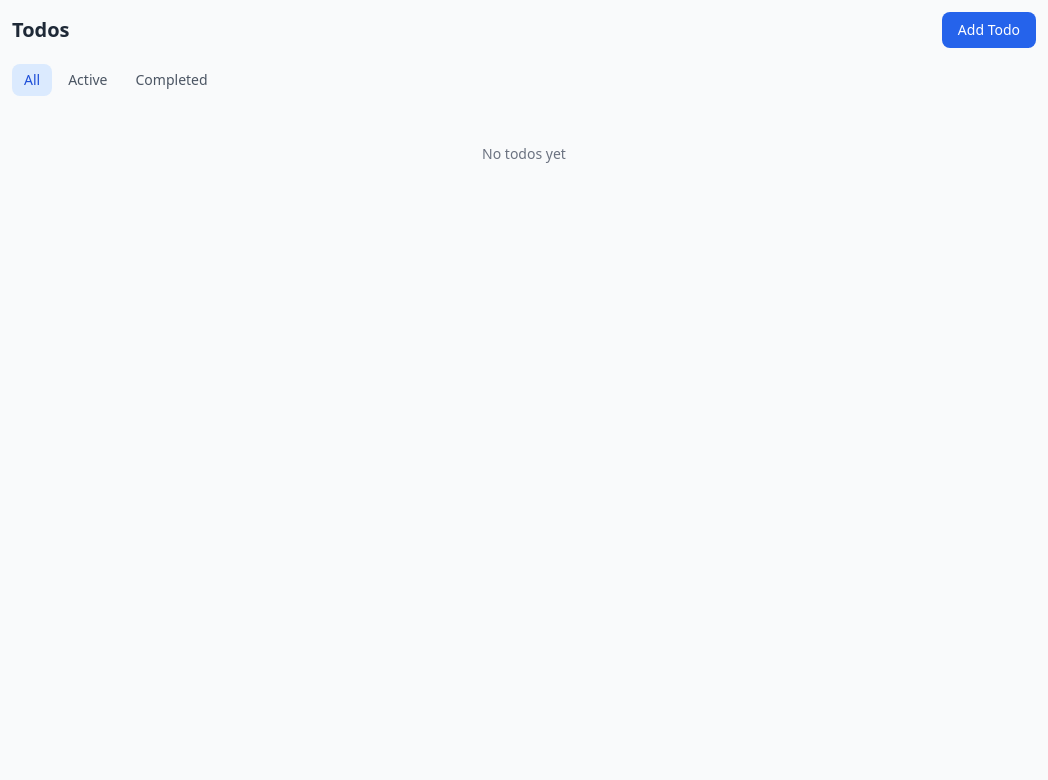
Scenario: TodoList › shows form when Add Todo is clicked
The image size is (1048, 780).
Click the button "Add Todo": (989, 30) x1=942 y1=12 x2=1036 y2=48
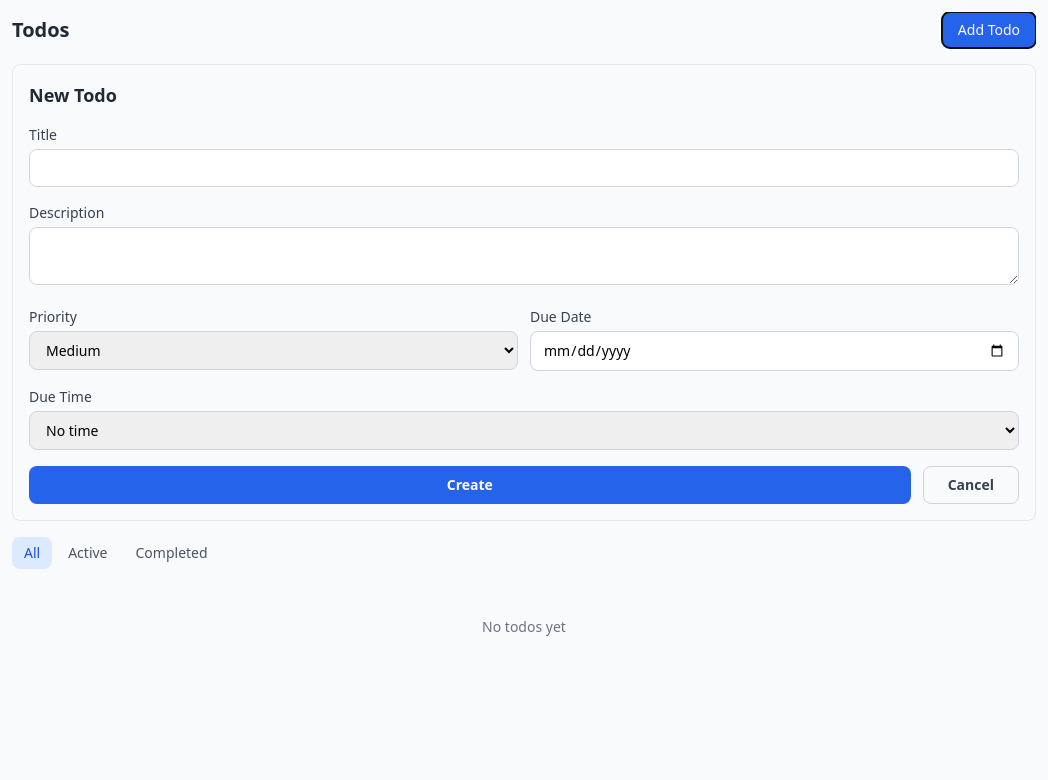
Check: the heading "New Todo" is shown, box x1=29 y1=83 x2=117 y2=107
